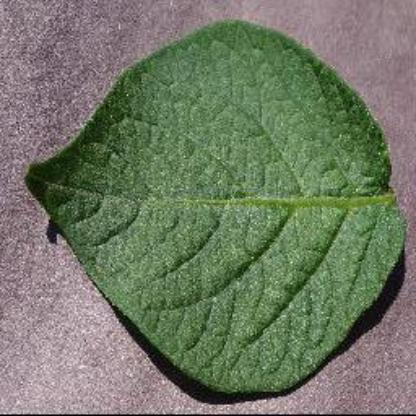Healthy-plant: (22, 18, 410, 406)
